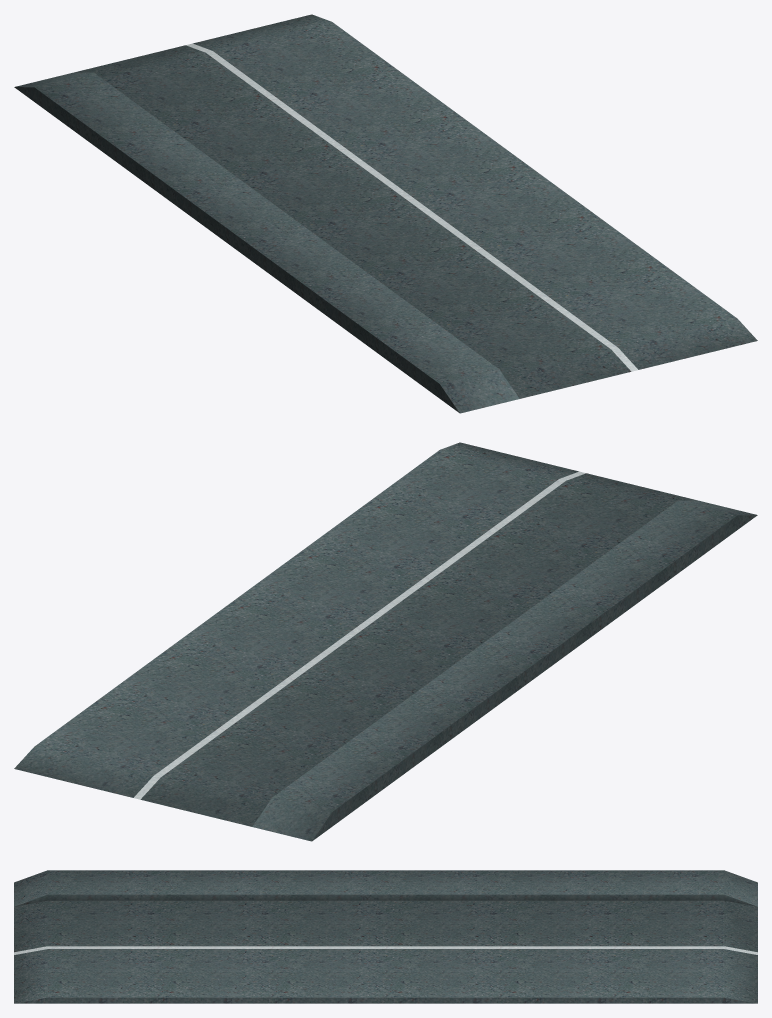
File: ROMEN_RIGHT00.glb
The picture shows the model from 3 angles, top to bottom: view 1: azimuth 30°, elevation 25°; view 2: azimuth 150°, elevation 25°; view 3: azimuth 270°, elevation 25°; orthographic projection. The views are drawn at different scales.
Visible parts, largest first — view 1: Model; view 2: Model; view 3: Model.
Part boxes in pixels (x1=…): Model: x1=14, y1=14, x2=757, y2=413; Model: x1=14, y1=442, x2=757, y2=841; Model: x1=14, y1=870, x2=757, y2=1003.
Size of the model in its own units: 42.42 by 2 by 110.
2 materials, 2 textured.
